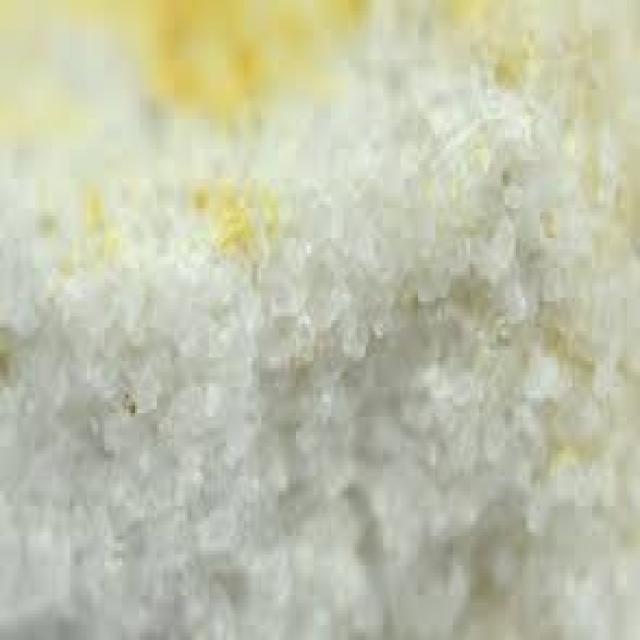Metamorphic: (2, 15, 625, 621)
